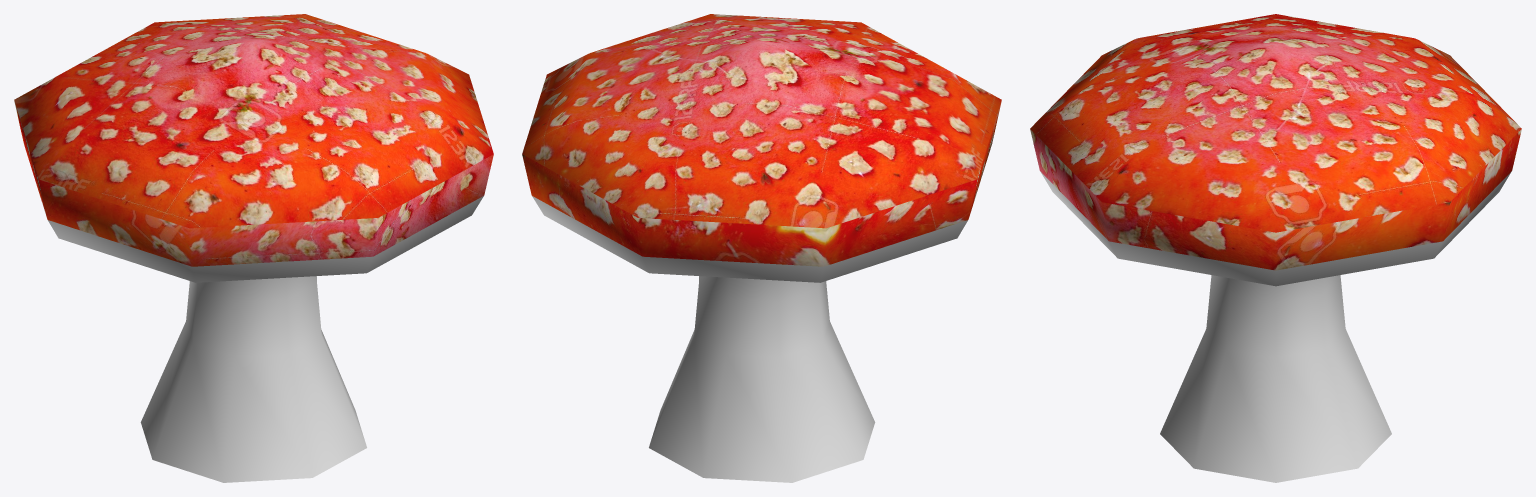
File: SHROOM.fbx
The picture shows the model from 3 angles, left to right: view 1: azimuth 30°, elevation 25°; view 2: azimuth 150°, elevation 25°; view 3: azimuth 270°, elevation 25°; orthographic projection.
Parts seen in each view (by area): view 1: mushroom; view 2: mushroom; view 3: mushroom.
Part boxes in pixels (x1=…): mushroom: x1=14, y1=14, x2=493, y2=482; mushroom: x1=522, y1=14, x2=1001, y2=482; mushroom: x1=1030, y1=14, x2=1521, y2=482.
Bounding box in the file's own units: 424 × 370 × 424.
